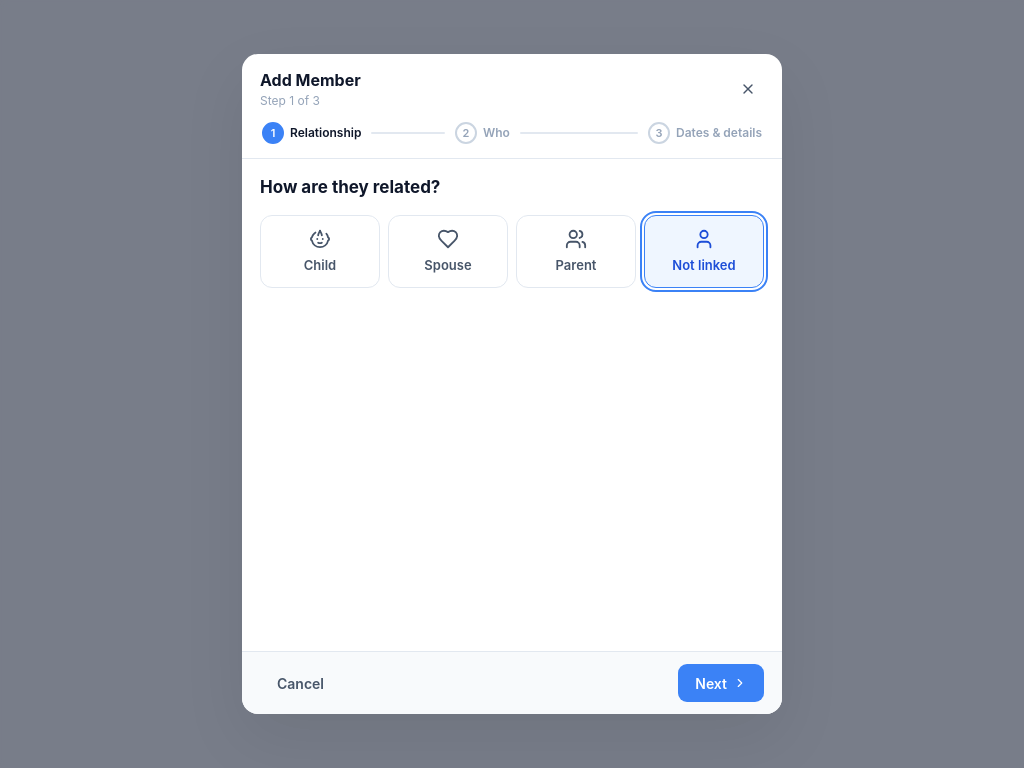
requires a target when a relationship is selected
The image size is (1024, 768).
Step 1. Click the button "Child" → (320, 251), box [260,214,380,288]
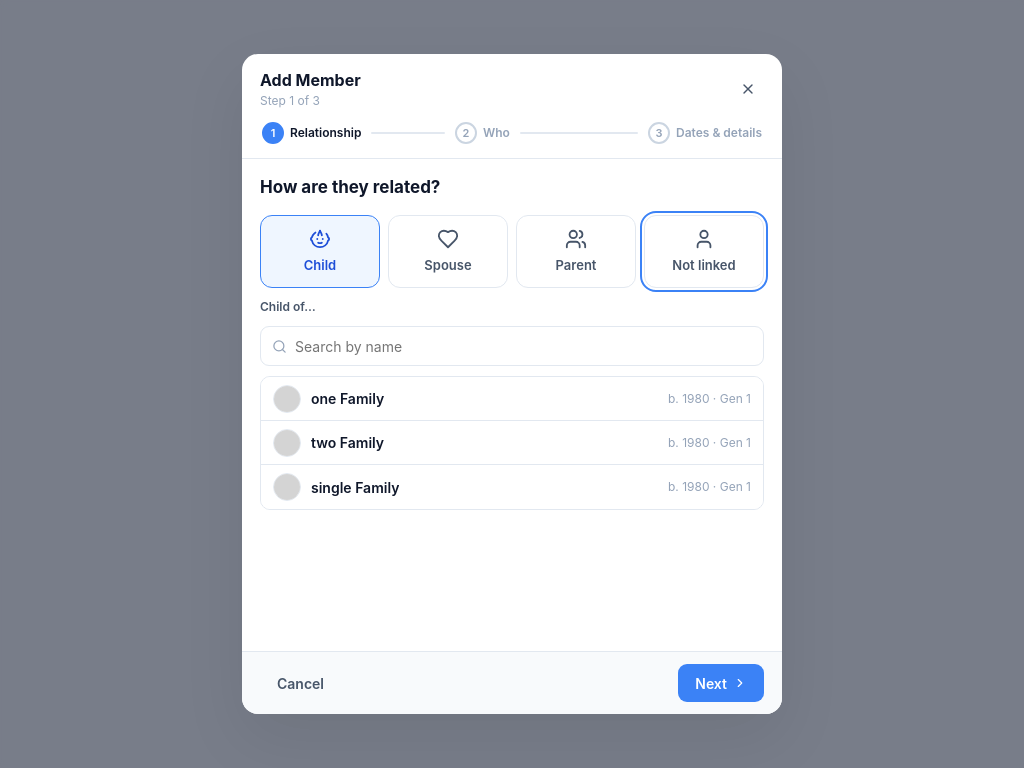
Step 2. Click the button "Next" → (721, 683), box [678,664,764,702]
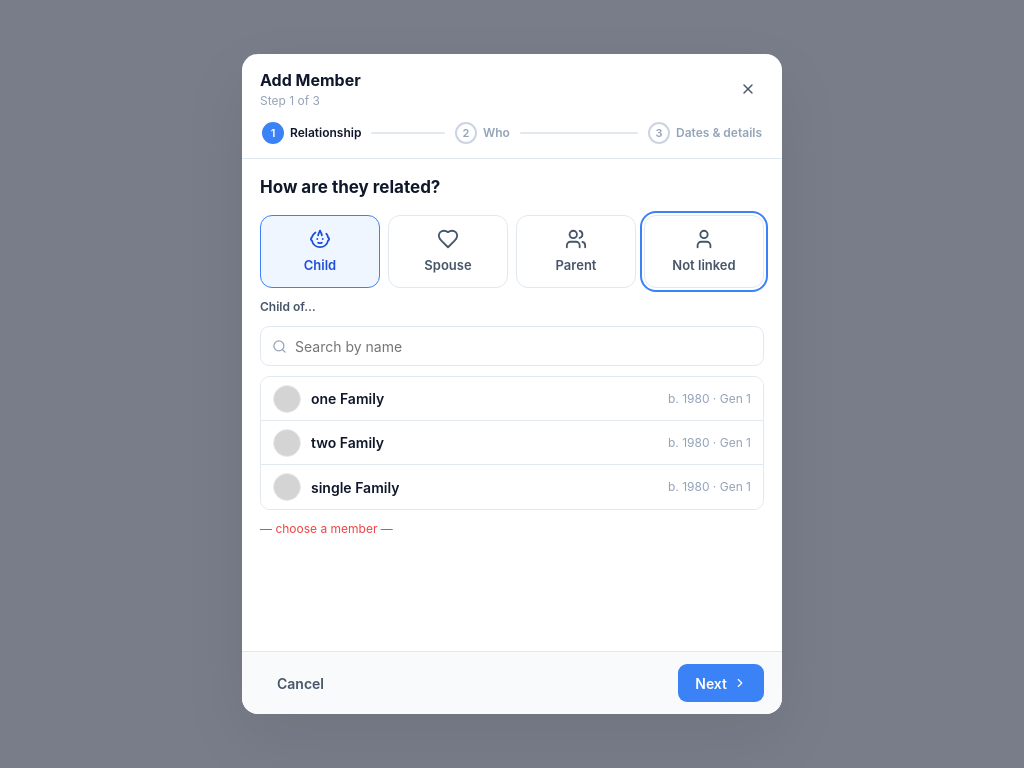
Check: the heading "How are they related?" is shown, box [260,177,440,197]
Check: the message reads "— choose a member —", box [260,521,393,536]
